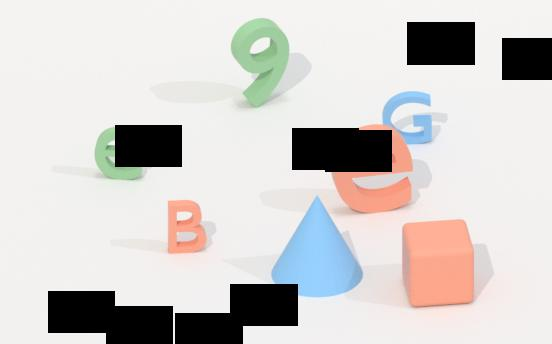9: (229, 16, 291, 111)
G-hoa: (381, 86, 437, 150)
b: (165, 195, 209, 257)
e: (329, 122, 416, 216), (92, 124, 147, 184)
hop: (398, 216, 479, 309)
non: (267, 191, 366, 299)
